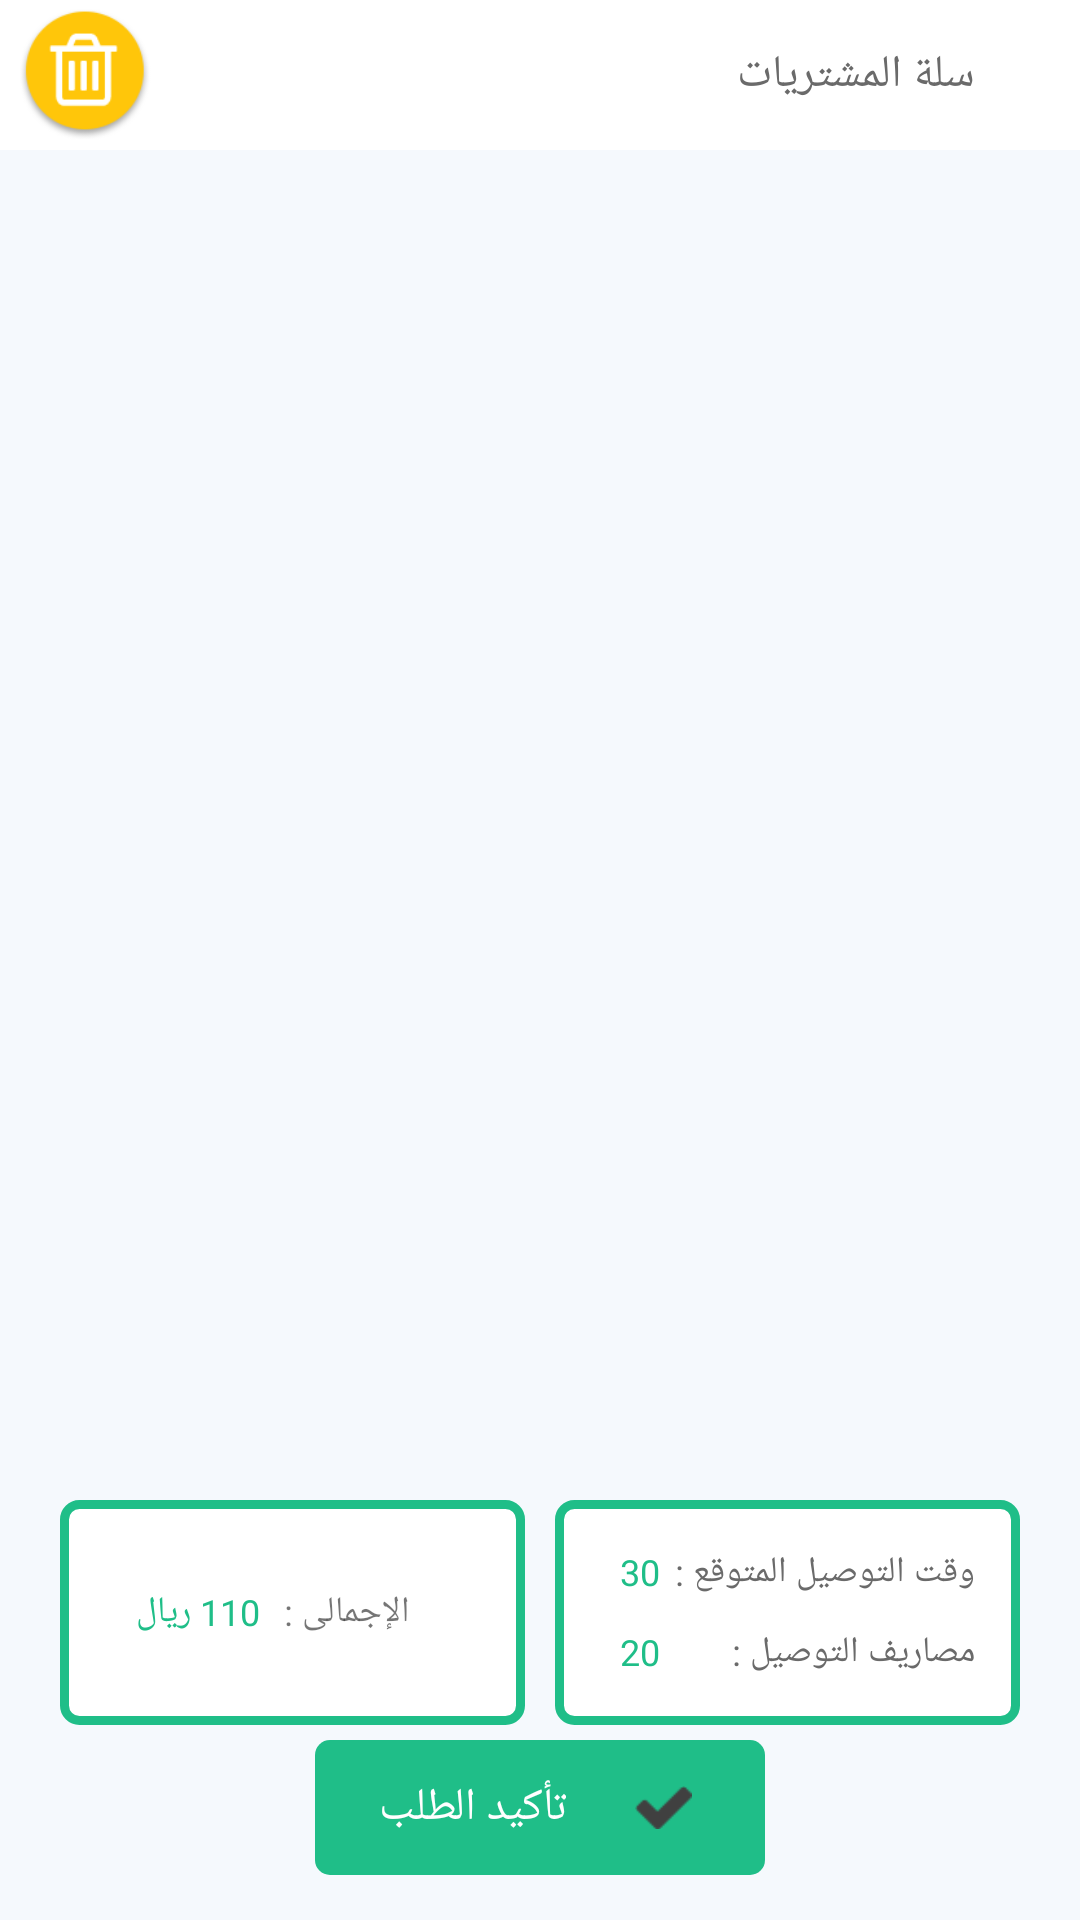

Screen size 1080x1920. Icon name, then its box in pixels as (x1, y1, x2, y2):
delete: (24, 11, 146, 135)
tick: (635, 1786, 692, 1829)
